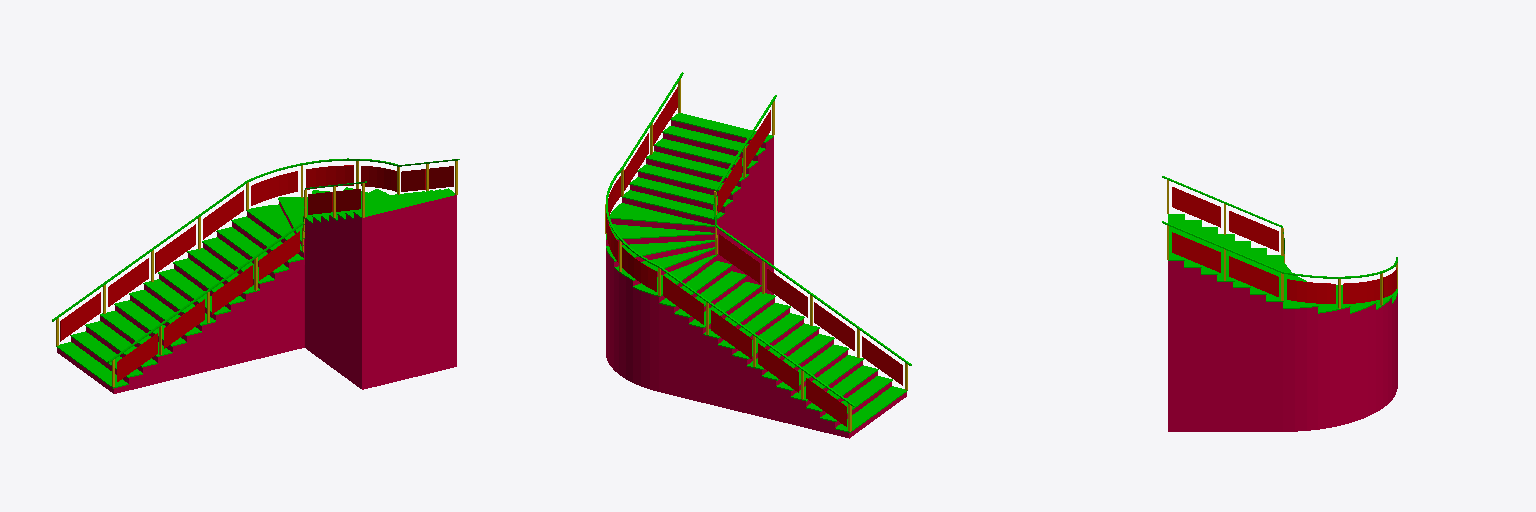
Rendered from stair_test.obj.
3 views of the same model, side by side, from view 1: azimuth 30°, elevation 25°; view 2: azimuth 150°, elevation 25°; view 3: azimuth 270°, elevation 25° (orthographic).
Parts seen in each view (by area): view 1: stairs_right.001_Stair; view 2: stairs_right.001_Stair; view 3: stairs_right.001_Stair.
Part boxes in pixels (bbox=[...]): stairs_right.001_Stair: bbox=[52, 158, 459, 393]; stairs_right.001_Stair: bbox=[605, 72, 911, 438]; stairs_right.001_Stair: bbox=[1162, 176, 1397, 431].
Bounding box in the file's own units: 8.83 × 6.11 × 6.21.